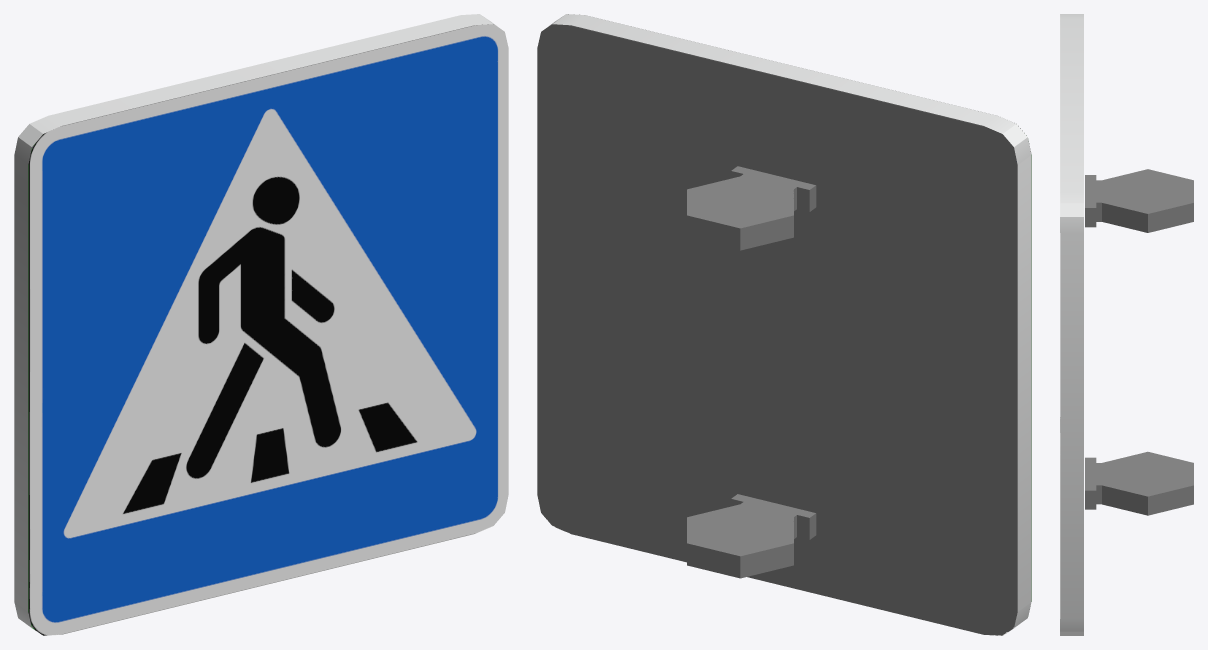
Rendered from Road_znak_peshehodny_perehod.FBX.
3 renders of one model, left to right at view 1: azimuth 30°, elevation 25°; view 2: azimuth 150°, elevation 25°; view 3: azimuth 270°, elevation 25°, orthographic. The views are drawn at different scales.
Visible parts, largest first — view 1: Road_znak_peshehodny_perehod_01; view 2: Road_znak_peshehodny_perehod_01; view 3: Road_znak_peshehodny_perehod_01.
Boxes of the visible parts, x1=… form: Road_znak_peshehodny_perehod_01: x1=14, y1=14, x2=508, y2=635; Road_znak_peshehodny_perehod_01: x1=537, y1=14, x2=1031, y2=635; Road_znak_peshehodny_perehod_01: x1=1060, y1=14, x2=1193, y2=635.
Bounding box in the file's own units: 198 × 200 × 55.34.
1 material, 1 textured.
